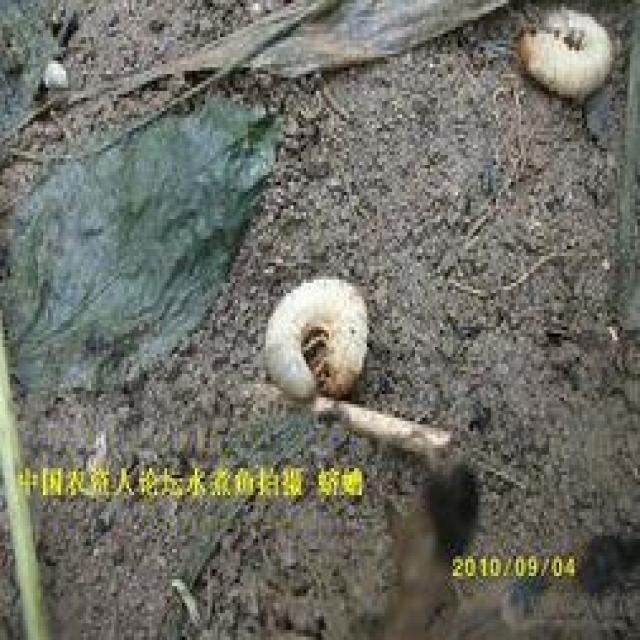Grub-Adult-: (260, 268, 376, 411), (516, 0, 614, 109)
